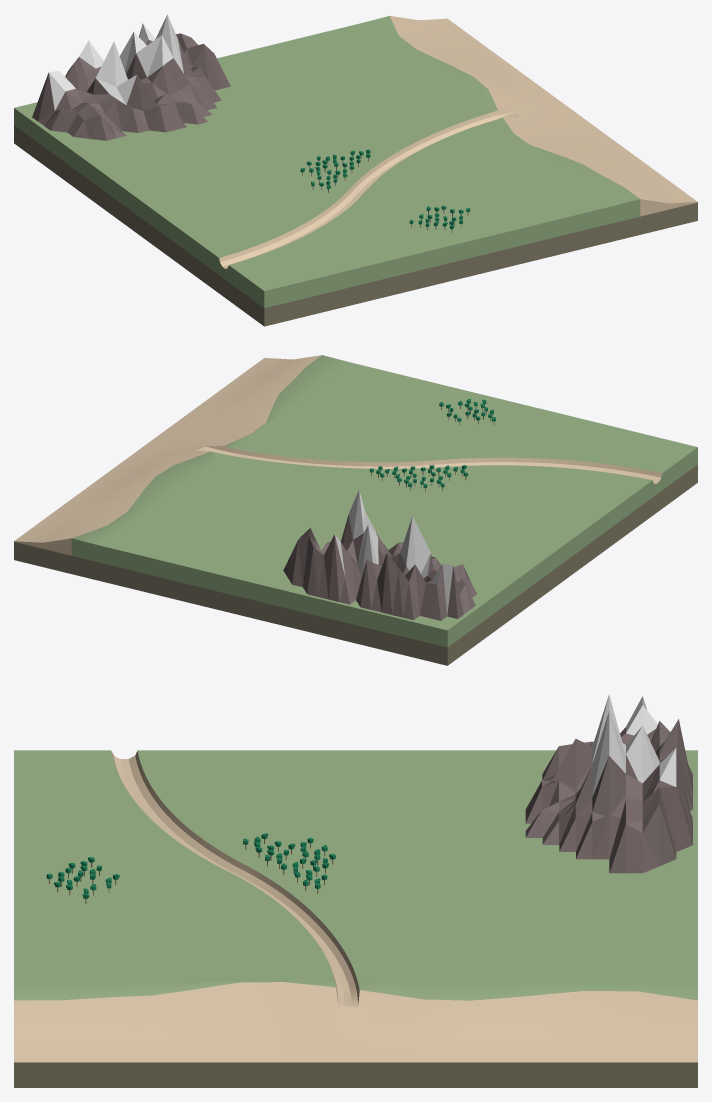
Rendered from Mapper3.fbx.
3 views of the same model, one above another, from view 1: azimuth 30°, elevation 25°; view 2: azimuth 150°, elevation 25°; view 3: azimuth 270°, elevation 25° (orthographic). The views are drawn at different scales.
Parts seen in each view (by area): view 1: Mapper2; view 2: Mapper2; view 3: Mapper2.
Boxes of the visible parts, left/top/right/bottom form: Mapper2: left=14, top=14, right=697, bottom=326; Mapper2: left=14, top=355, right=697, bottom=665; Mapper2: left=14, top=694, right=697, bottom=1087.
Size of the model in its own units: 23.74 by 6.45 by 23.74.
